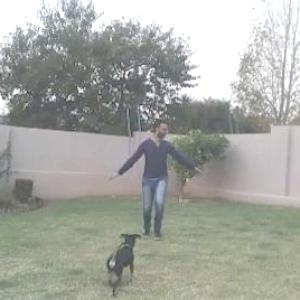land: (90, 114, 207, 244)
